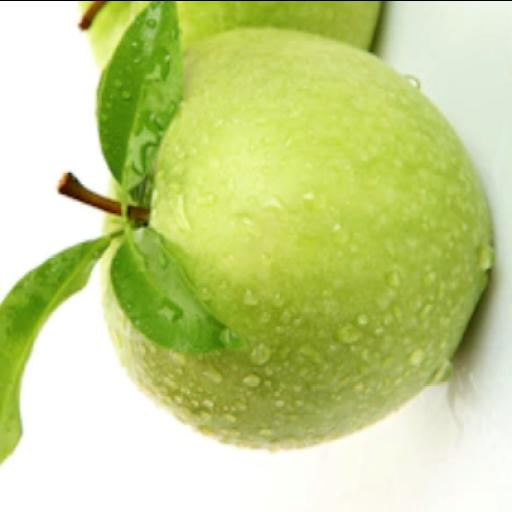apple: (0, 1, 493, 460), (104, 30, 491, 449), (177, 1, 380, 49)
